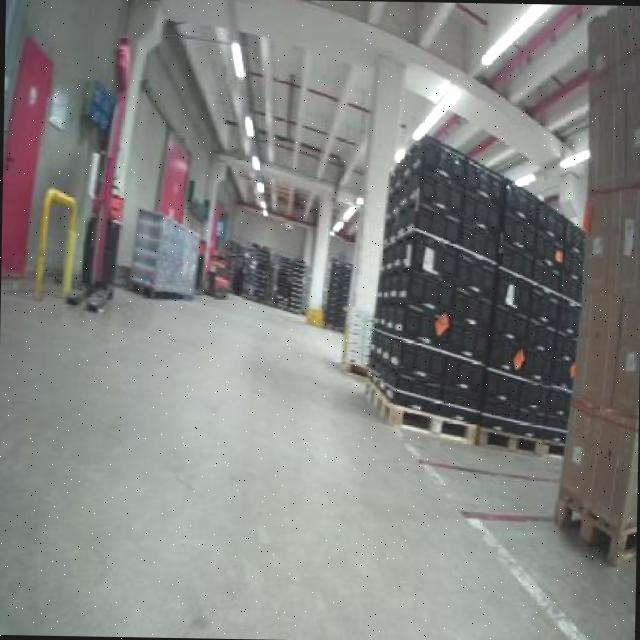pallet: (361, 370, 478, 450), (551, 489, 637, 584), (471, 413, 552, 460)
